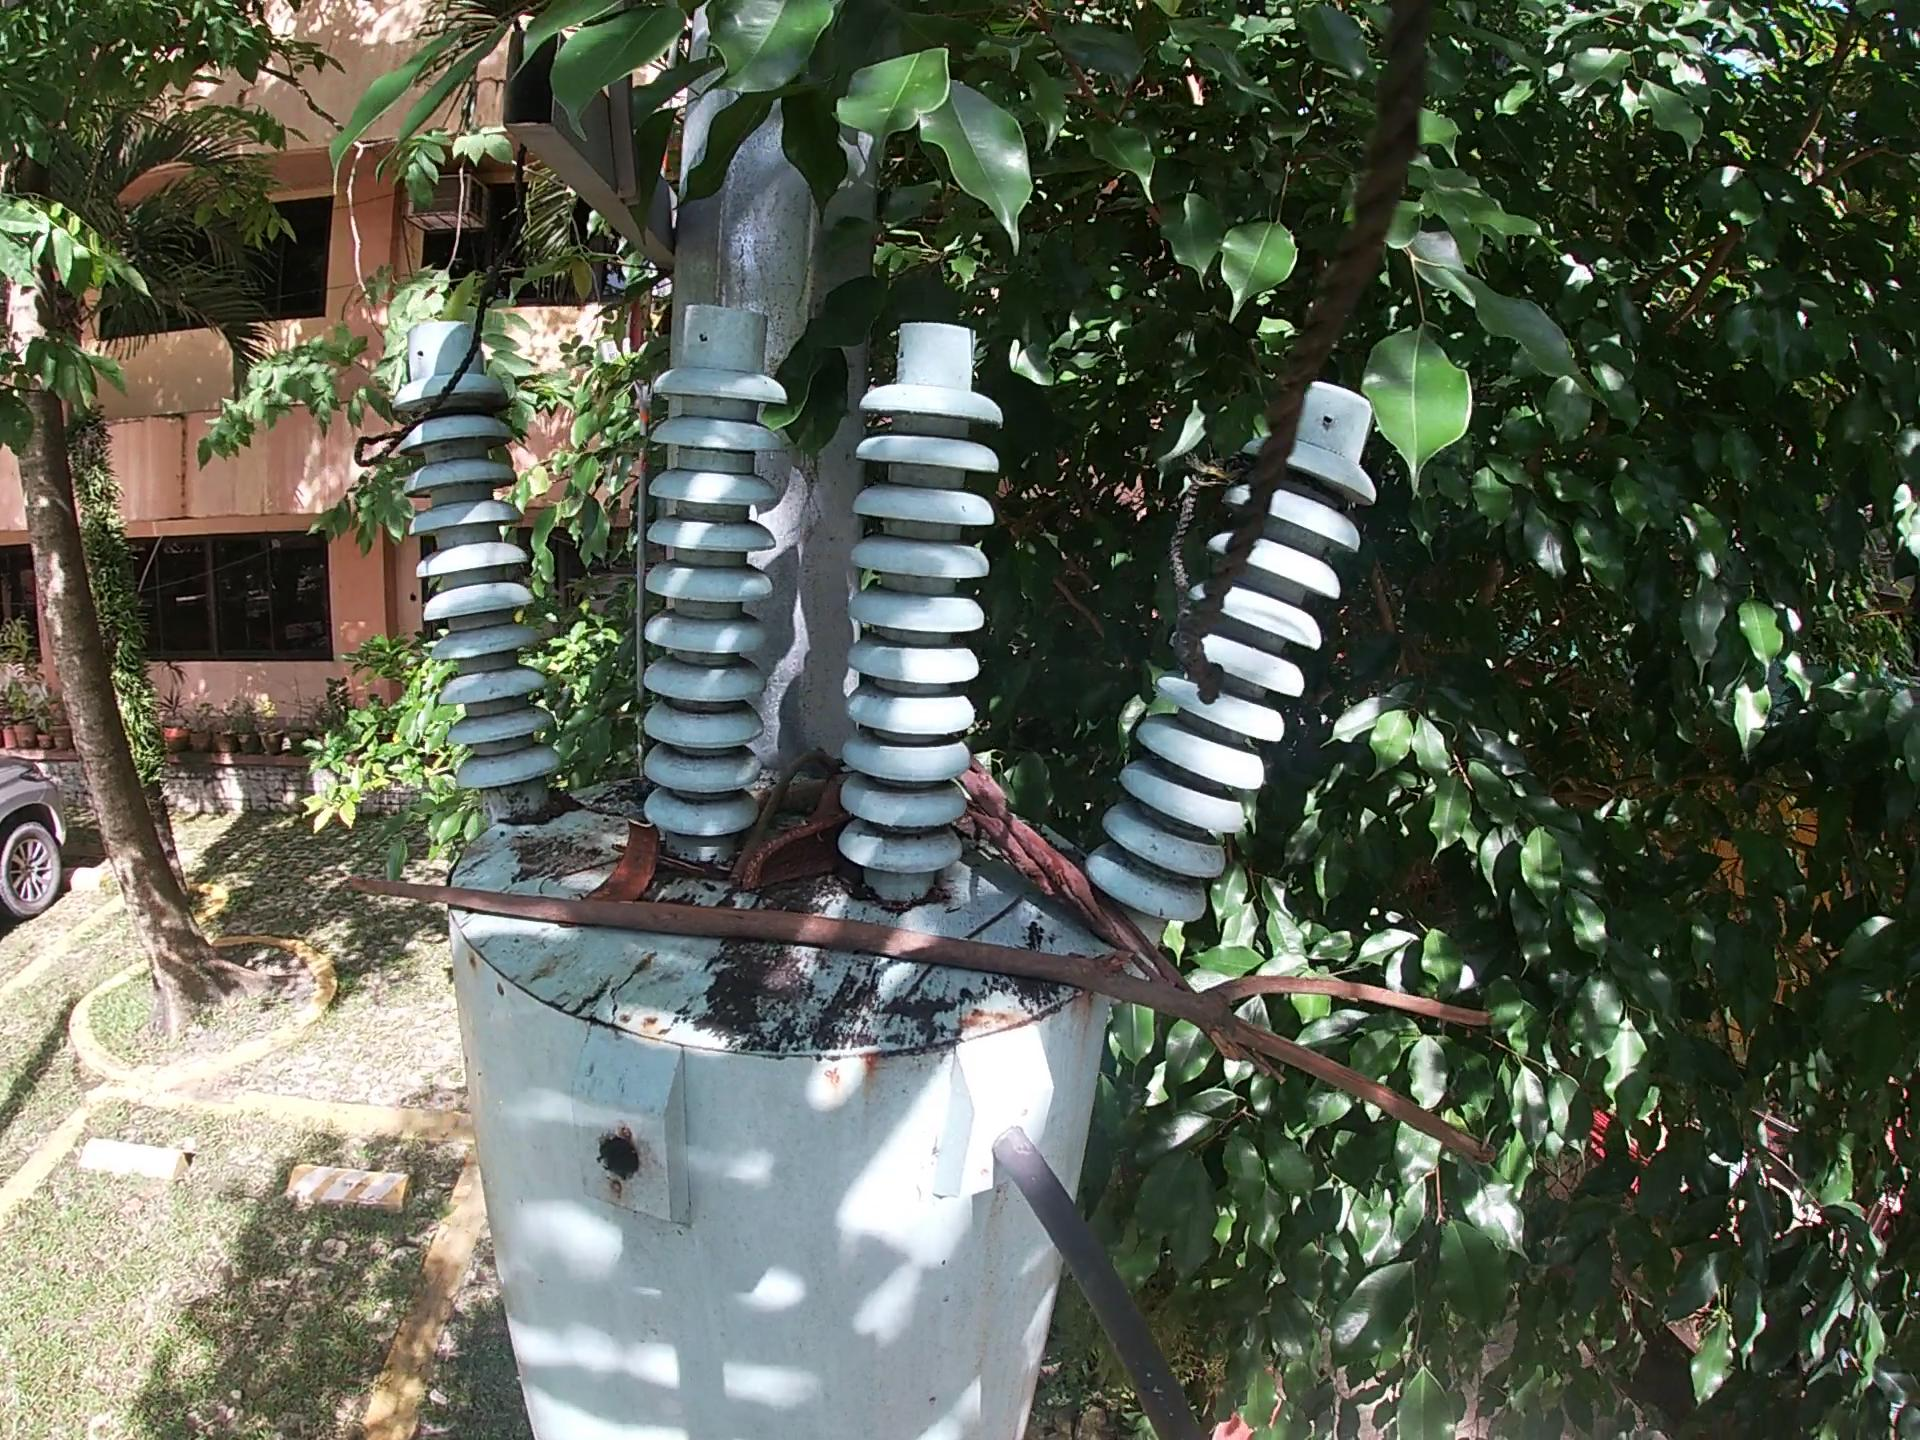mahogany fruit: (742, 818, 856, 895), (582, 818, 668, 906)
tree branch: (331, 867, 1504, 1175), (952, 749, 1282, 1086), (735, 749, 850, 874)
